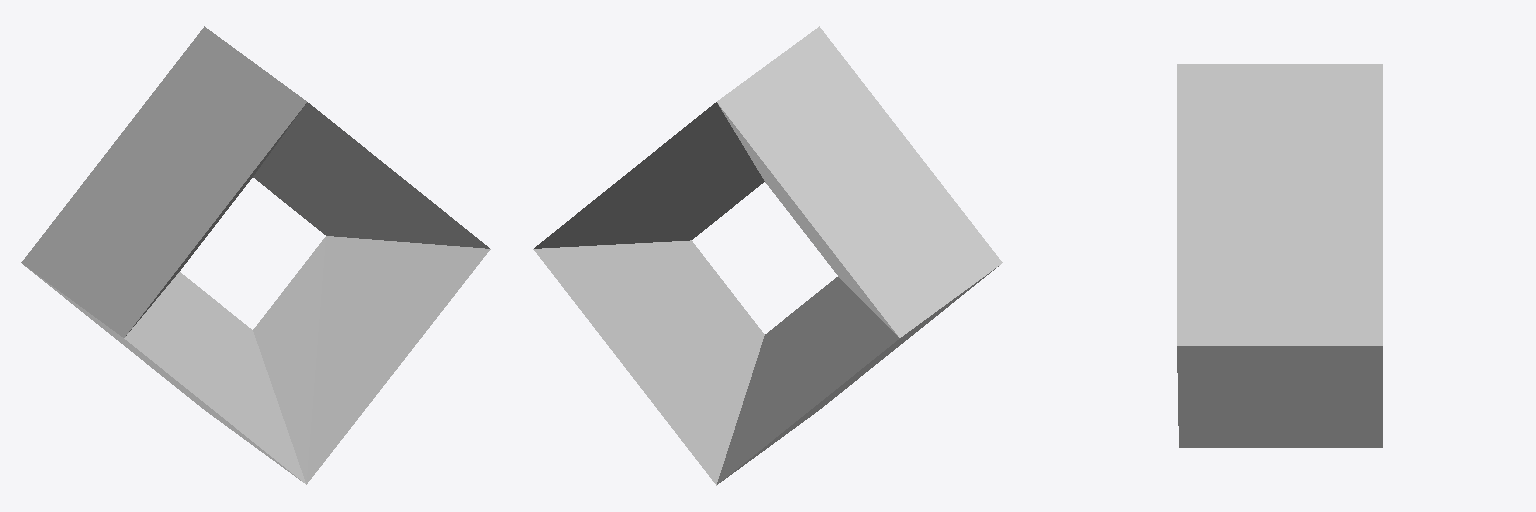
File: enemy3.obj
The picture shows the model from 3 angles: view 1: azimuth 30°, elevation 25°; view 2: azimuth 150°, elevation 25°; view 3: azimuth 270°, elevation 25°; orthographic projection.
Visible parts, largest first — view 1: Cube; view 2: Cube; view 3: Cube.
Boxes of the visible parts, x1=… form: Cube: x1=21, y1=26, x2=490, y2=484; Cube: x1=533, y1=26, x2=1002, y2=485; Cube: x1=1177, y1=64, x2=1382, y2=447.
Size of the model in its own units: 2.77 by 2.77 by 1.35.